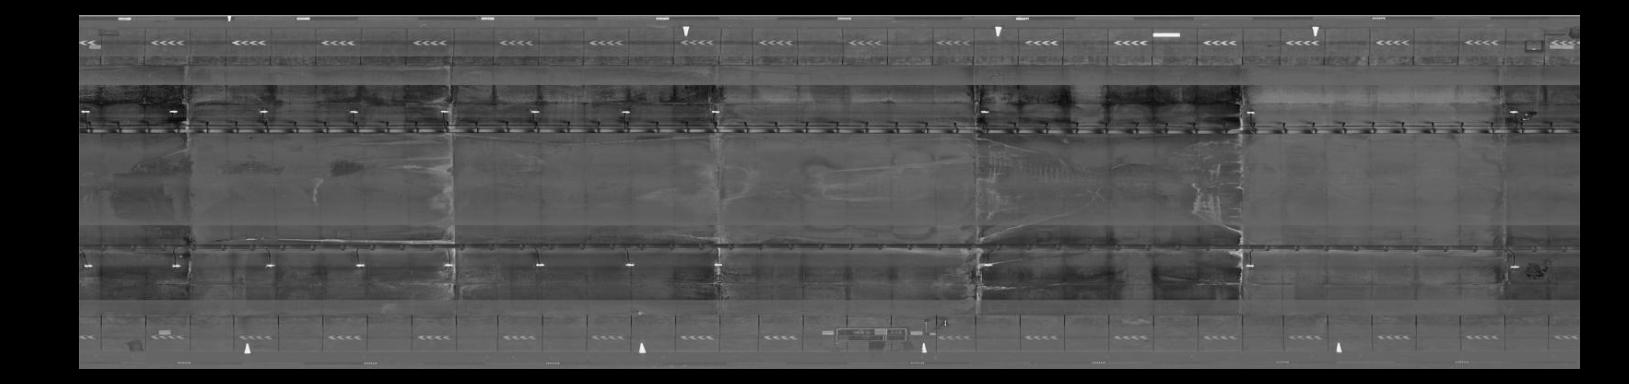light: (255, 106, 276, 116), (1240, 260, 1261, 271), (262, 260, 281, 272), (620, 259, 639, 271), (616, 104, 632, 117), (435, 107, 454, 117), (979, 260, 1002, 269), (168, 262, 188, 271), (165, 107, 183, 117), (706, 260, 728, 269), (1507, 262, 1523, 273), (526, 107, 544, 116), (1241, 108, 1258, 118), (1505, 106, 1522, 116), (979, 106, 993, 117), (346, 107, 364, 116), (440, 260, 458, 270), (707, 107, 724, 116), (82, 260, 97, 271), (79, 106, 92, 116), (531, 260, 548, 269), (351, 262, 369, 269)
